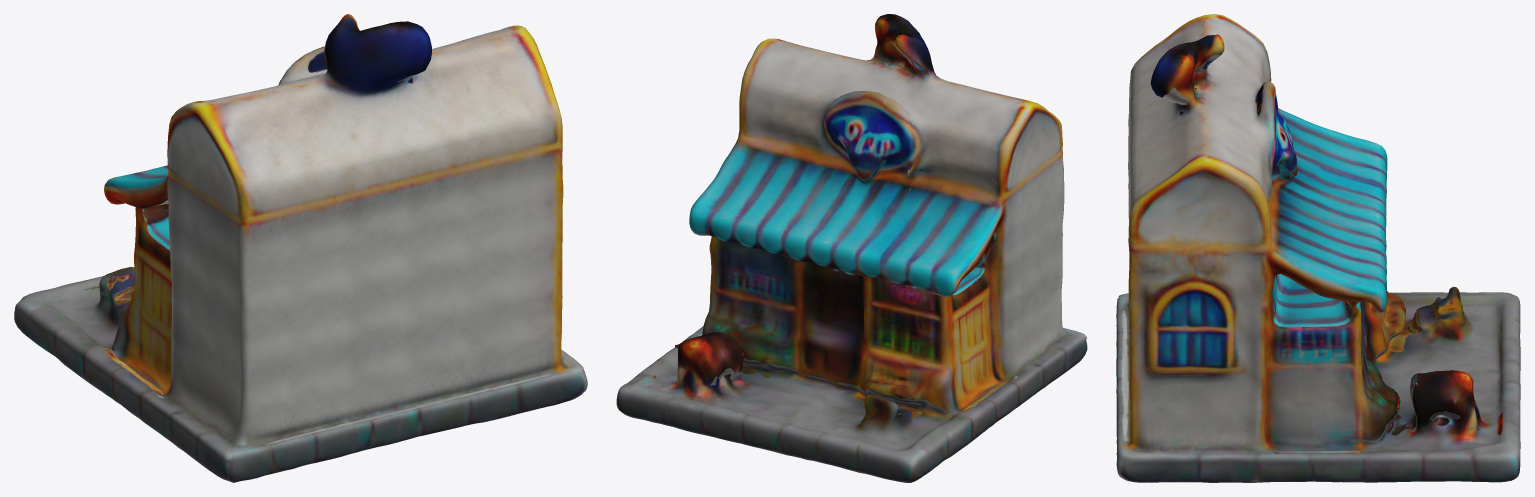
The model's file is _pet_shop_min.obj.
3 views of the same model, side by side, from view 1: azimuth 30°, elevation 25°; view 2: azimuth 150°, elevation 25°; view 3: azimuth 270°, elevation 25° (orthographic). The views are drawn at different scales.
Visible parts, largest first — view 1: mesh; view 2: mesh; view 3: mesh.
Boxes of the visible parts, x1,y1,x2,y2 form: mesh: (14, 14, 587, 482); mesh: (616, 14, 1087, 482); mesh: (1116, 14, 1520, 482).
Size of the model in its own units: 0.9681 by 0.9918 by 0.9992.
